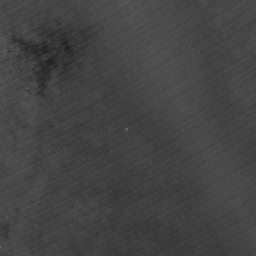Target: (123, 126, 130, 132)
